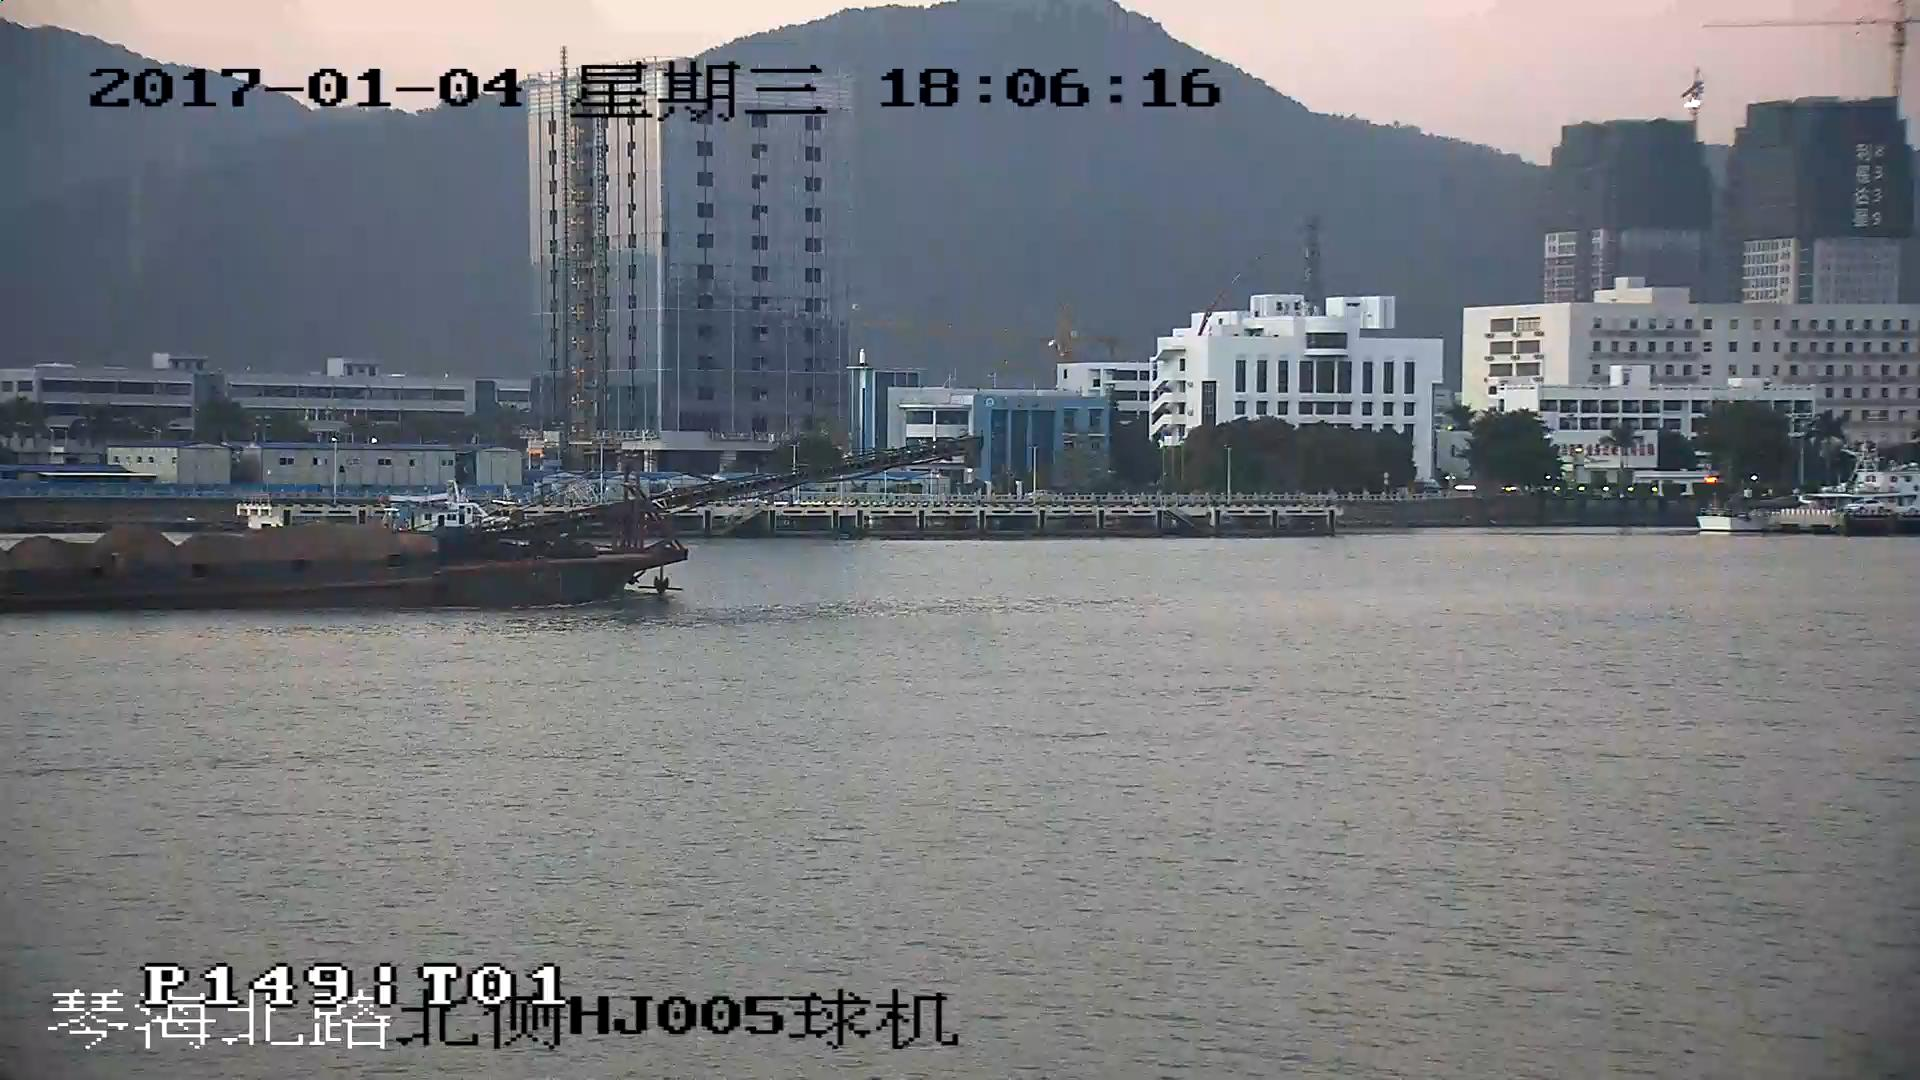ore carrier: (1, 442, 944, 613)
